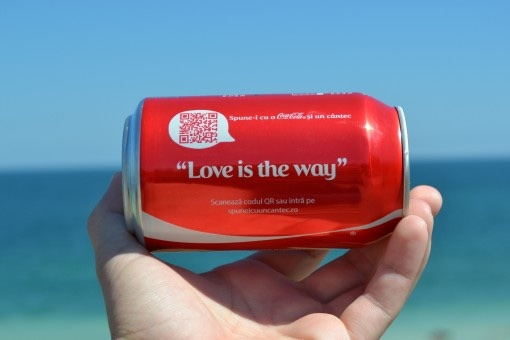can: (114, 88, 425, 259)
